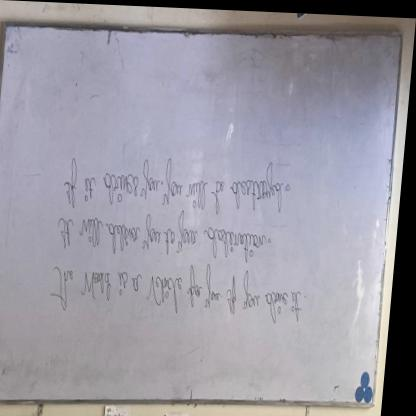Handwritten text: (52, 257, 311, 334), (56, 146, 289, 216), (61, 205, 274, 263)
Whiteboard: (0, 20, 407, 410)
